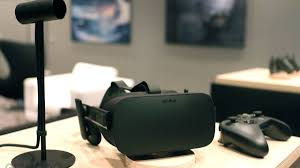oculus: (94, 89, 224, 160)
